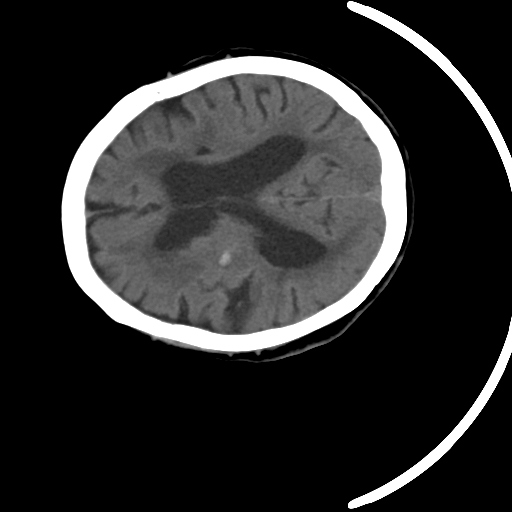a: (203, 231, 252, 281)
